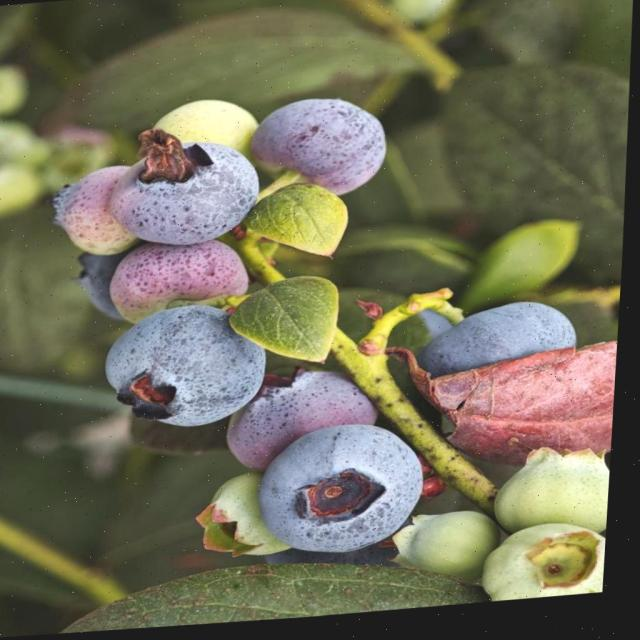RipeBlueBerry: (262, 424, 438, 562), (105, 307, 272, 432)
Semi-RipeBlueBerry: (107, 139, 265, 249), (257, 98, 388, 200)
UnripeBlueBerry: (494, 529, 614, 609)
